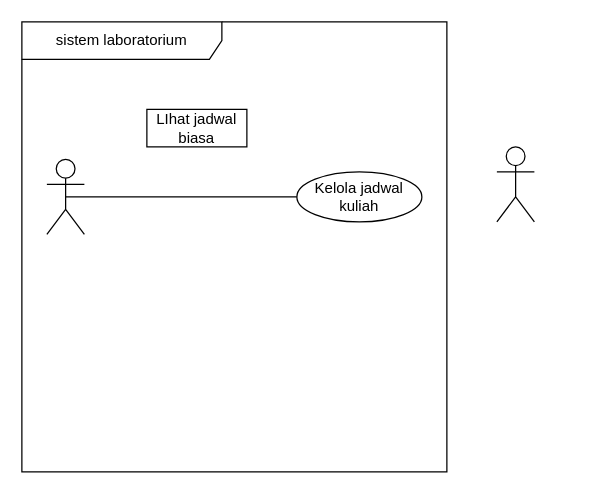
This 593x494 diagram has some shape labels left out. Here are the shapes that lost their labels. From the top down, the centre of each, then its label:
At point 65,196: "Mahasiswa".
At point 515,184: "Admin Akademik".
